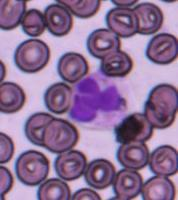N: (68, 70, 128, 129)
